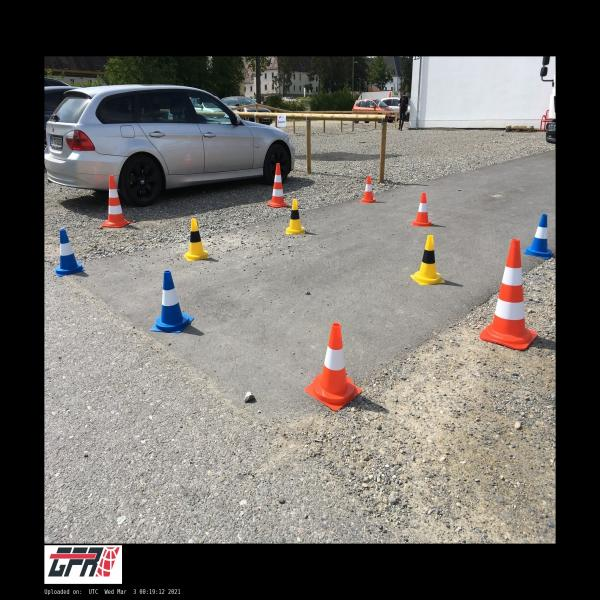blue_cone: (151, 271, 194, 333), (53, 230, 85, 276), (524, 215, 554, 260)
large_orange_cone: (480, 240, 538, 350), (102, 175, 130, 228), (267, 163, 289, 208)
orange_cone: (305, 323, 361, 411), (411, 193, 433, 227), (360, 176, 376, 203)
yellow_cone: (410, 235, 446, 285), (183, 219, 210, 262), (286, 200, 305, 235)
